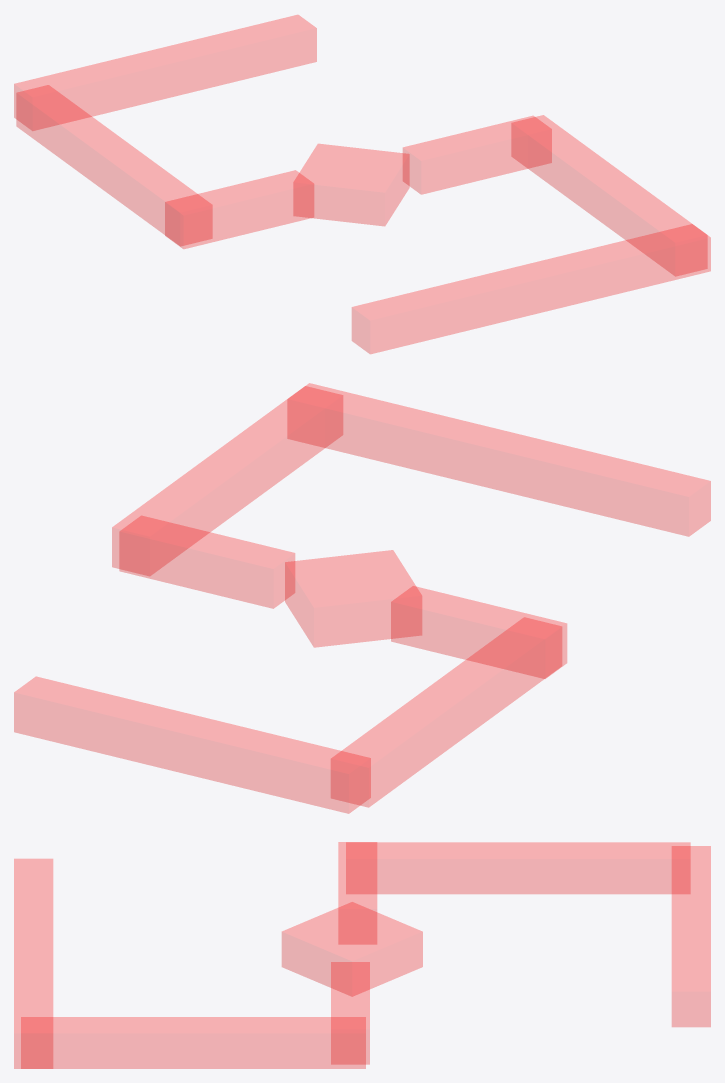
The model's file is s06a_td1-obstacles.glb.
The picture shows the model from 3 angles, top to bottom: view 1: azimuth 30°, elevation 25°; view 2: azimuth 150°, elevation 25°; view 3: azimuth 270°, elevation 25°; orthographic projection. The views are drawn at different scales.
Visible parts, largest first — view 1: boulder-colonly (×7); view 2: boulder-colonly (×7); view 3: boulder-colonly (×7).
Part boxes in pixels (x1,y1,x2,y2): boulder-colonly (×7): [14, 15, 710, 353]; boulder-colonly (×7): [14, 383, 710, 813]; boulder-colonly (×7): [14, 842, 710, 1068].
Size of the model in its own units: 23.11 by 2 by 35.58.
